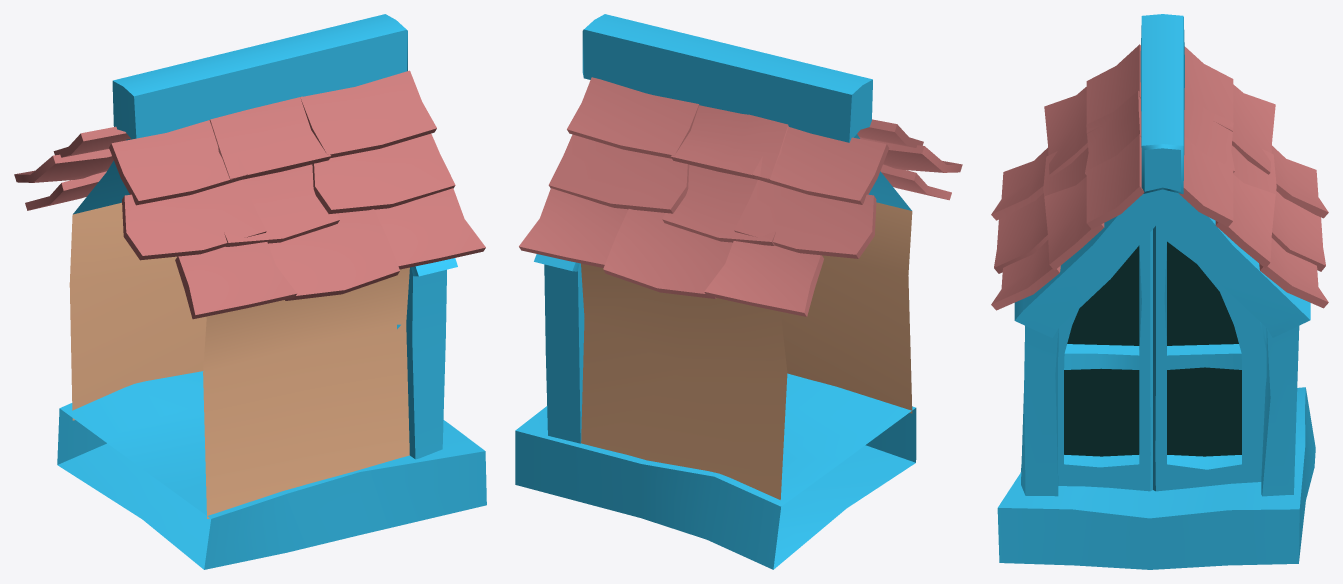
Rendered from Roof_window1.fbx.
3 renders of one model, left to right at view 1: azimuth 30°, elevation 25°; view 2: azimuth 150°, elevation 25°; view 3: azimuth 270°, elevation 25°, orthographic. The views are drawn at different scales.
Parts seen in each view (by area): view 1: Roof_window1; view 2: Roof_window1; view 3: Roof_window1.
Boxes of the visible parts, <box> form: Roof_window1: <box>14,14,486,569</box>; Roof_window1: <box>515,14,962,569</box>; Roof_window1: <box>991,14,1328,569</box>.
Size of the model in its own units: 223 by 278 by 199.
